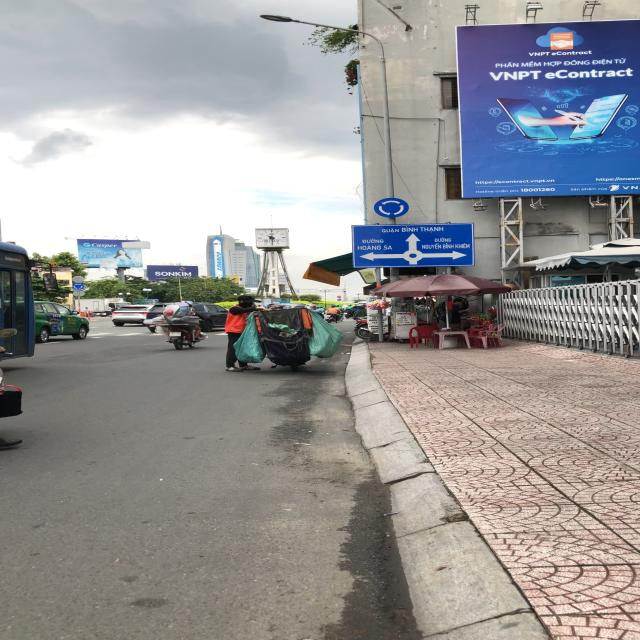Bien bao noi giao nhau chay theo vong xuyen: (371, 196, 415, 219), (71, 282, 88, 290)
